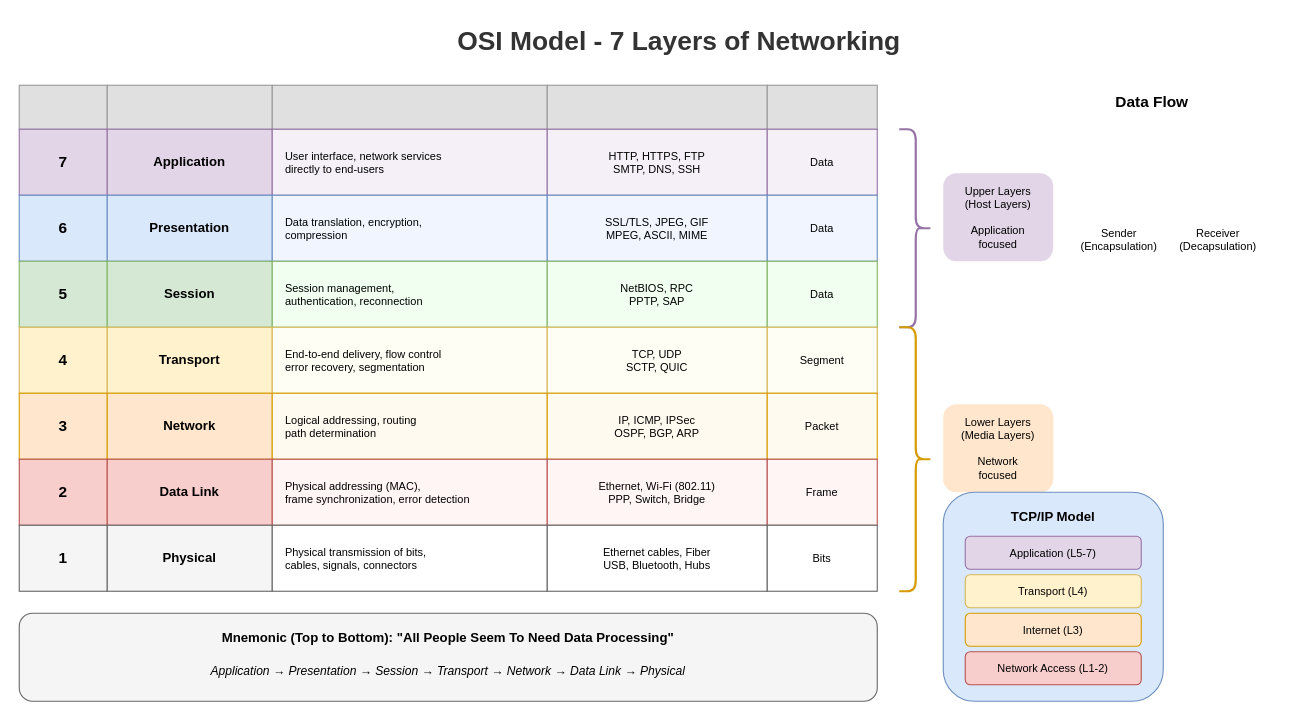
This 1290x721 diagram has some shape labels left out. The centre of each missing label's shape, as x and y in pixels:
Function: the point at 409,106
Layer: the point at 62,106
Name: the point at 189,106
PDU: the point at 821,106
Protocols / Examples: the point at 656,106
